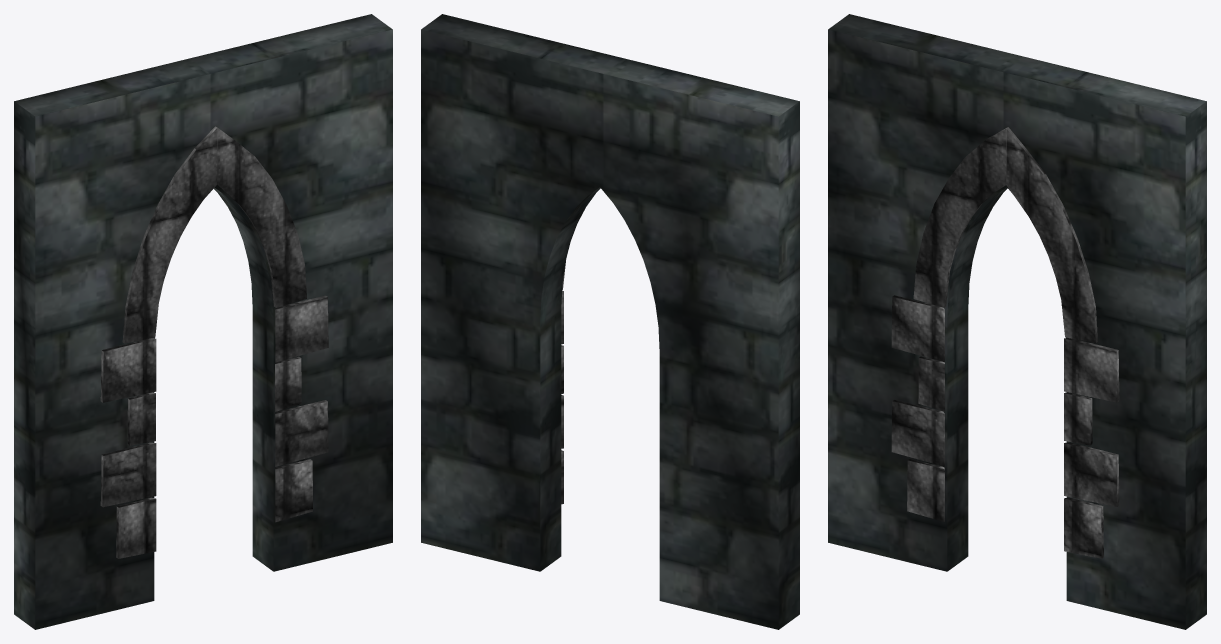
File: dark stone door1.glb
The picture shows the model from 3 angles, left to right: view 1: azimuth 30°, elevation 25°; view 2: azimuth 150°, elevation 25°; view 3: azimuth 330°, elevation 25°; orthographic projection.
Visible parts, largest first — view 1: Circular Doorway.007; view 2: Circular Doorway.007; view 3: Circular Doorway.007.
Part boxes in pixels (<box>): Circular Doorway.007: <box>14,14,392,629</box>; Circular Doorway.007: <box>421,14,799,629</box>; Circular Doorway.007: <box>828,14,1206,629</box>.
Bounding box in the file's own units: 2 × 2.74 × 0.225.
2 materials, 2 textured.
